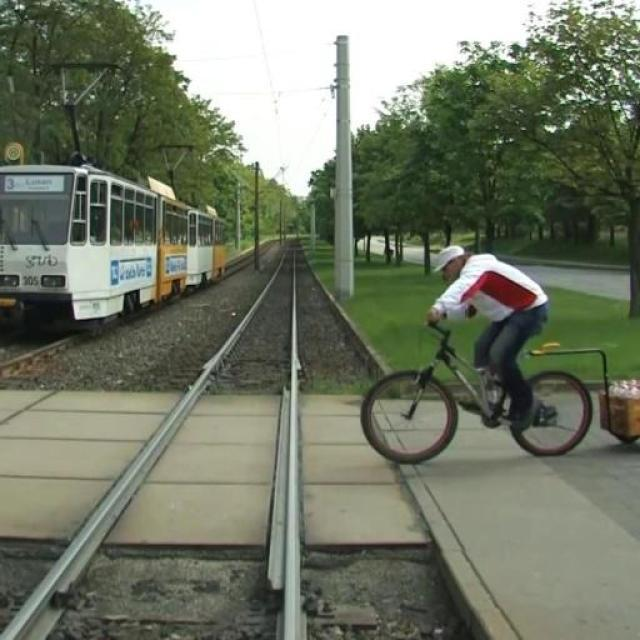people: (426, 240, 542, 437)
